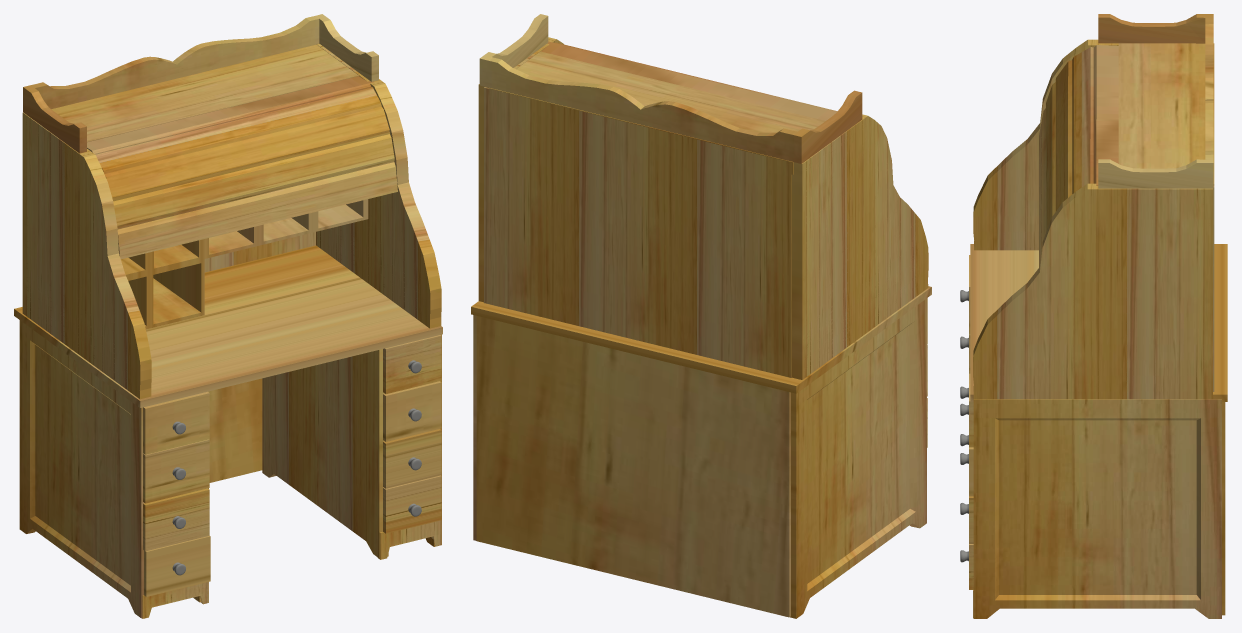
File: secretarysDesk.obj
3 views of the same model, side by side, from view 1: azimuth 30°, elevation 25°; view 2: azimuth 150°, elevation 25°; view 3: azimuth 270°, elevation 25° (orthographic). The views are drawn at different scales.
Parts seen in each view (by area): view 1: front, writingsurface, PolyMesh_1, topside, PolyMesh_2_1, top, topside_1, toppiece, cubbyholes, back, drawerfront_2, drawerfront_1 (+9 smaller); view 2: back, Cube_2, PolyMesh_1, topside, toppiece, top, writingsurface, front, topside_1, PolyMesh_1_1; view 3: PolyMesh_1_1, topside_1, top, front, toppiece, topside, writingsurface, back, Cube_2.
Boxes of the visible parts, left/top/right/bottom form: front: left=87, top=76, right=397, bottom=259; writingsurface: left=14, top=245, right=442, bottom=407; PolyMesh_1: left=19, top=320, right=144, bottom=618; topside: left=22, top=112, right=151, bottom=399; PolyMesh_2_1: left=262, top=349, right=388, bottom=558; top: left=51, top=44, right=358, bottom=142; topside_1: left=316, top=43, right=441, bottom=328; toppiece: left=23, top=14, right=378, bottom=153; cubbyholes: left=121, top=199, right=368, bottom=329; back: left=209, top=378, right=262, bottom=482; drawerfront_2: left=143, top=439, right=209, bottom=503; drawerfront_1: left=143, top=391, right=209, bottom=454; back: left=476, top=316, right=790, bottom=617; Cube_2: left=484, top=87, right=791, bottom=377; PolyMesh_1: left=790, top=298, right=926, bottom=618; topside: left=792, top=114, right=928, bottom=379; toppiece: left=479, top=14, right=862, bottom=163; top: left=488, top=51, right=825, bottom=174; writingsurface: left=471, top=286, right=931, bottom=393; front: left=541, top=41, right=837, bottom=120; topside_1: left=478, top=37, right=563, bottom=302; PolyMesh_1_1: left=473, top=315, right=476, bottom=540; PolyMesh_1_1: left=973, top=399, right=1221, bottom=618; topside_1: left=973, top=183, right=1212, bottom=399; top: left=1118, top=43, right=1214, bottom=184; front: left=1039, top=45, right=1118, bottom=267; toppiece: left=1098, top=14, right=1213, bottom=188; topside: left=973, top=39, right=1118, bottom=250; writingsurface: left=970, top=244, right=1227, bottom=401; back: left=1222, top=402, right=1225, bottom=615; Cube_2: left=1213, top=185, right=1214, bottom=391.
Bounding box in the file's own units: 2.76 × 3.88 × 2.07.
Materials: 2 (1 with a texture image).
